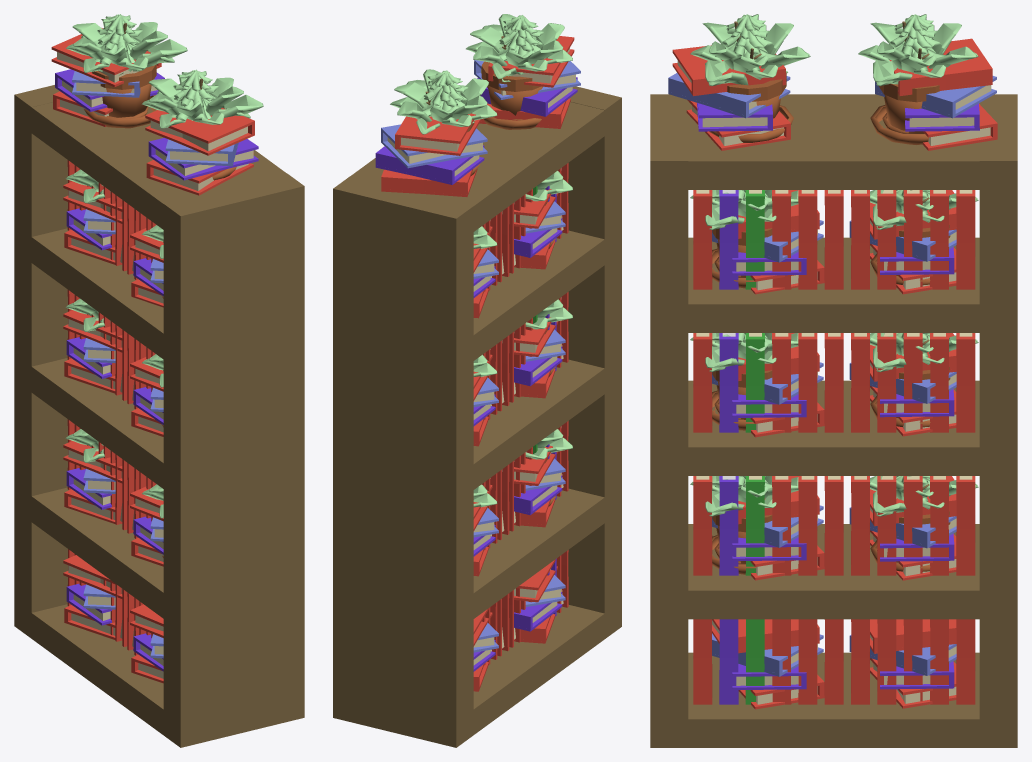
The model's file is library.fbx.
3 renders of one model, left to right at view 1: azimuth 30°, elevation 25°; view 2: azimuth 150°, elevation 25°; view 3: azimuth 270°, elevation 25°, orthographic. The views are drawn at different scales.
Parts seen in each view (by area): view 1: Shelf, BookPileLeftShelf05, Plant03.001, BookPileRightShelf05, BookPileRightShelf1, BookPileRightShelf03, BookPileRightShelf04, BookPileRightShelf02, Plant03, FullBookshelf02, FullBookshelf04, FullBookshelf03 (+12 smaller); view 2: Shelf, BookPileRightShelf05, Plant03, BookPileLeftShelf05, Plant03.001, BookPileLeftShelf01, BookPileLeftShelf03, BookPileLeftShelf02, BookPileLeftShelf04, FullBookshelf02, FullBookshelf03, FullBookshelf04 (+10 smaller); view 3: Shelf, FullBookshelf04, FullBookshelf02, FullBookshelf03, FullBookshelf05, BookPileRightShelf05, BookPileLeftShelf05, Plant03.001, Plant03, BookPileLeftShelf01, BookPileRightShelf1, BookPileRightShelf04 (+15 smaller).
Boxes of the visible parts, x1,y1,x2,y2 form: Shelf: (14,85,304,747); BookPileLeftShelf05: (145,107,258,195); Plant03.001: (66,21,174,128); BookPileRightShelf05: (51,28,164,126); BookPileRightShelf1: (63,555,122,639); BookPileRightShelf03: (63,310,122,393); BookPileRightShelf04: (63,181,122,264); BookPileRightShelf02: (63,441,122,523); Plant03: (142,77,250,180); FullBookshelf02: (67,160,163,279); FullBookshelf04: (67,419,156,538); FullBookshelf03: (67,289,163,409); Shelf: (333,86,621,747); BookPileRightShelf05: (375,113,487,196); Plant03: (466,14,572,129); BookPileLeftShelf05: (474,36,580,128); Plant03.001: (390,69,497,175); BookPileLeftShelf01: (514,558,565,643); BookPileLeftShelf03: (514,317,565,398); BookPileLeftShelf02: (514,445,565,527); BookPileLeftShelf04: (514,189,565,269); FullBookshelf02: (482,163,568,291); FullBookshelf03: (483,292,568,419); FullBookshelf04: (481,421,568,550); Shelf: (650,94,1017,747); FullBookshelf04: (693,476,975,575); FullBookshelf02: (693,190,975,289); FullBookshelf03: (693,333,975,432); FullBookshelf05: (693,619,975,704); BookPileRightShelf05: (875,38,997,150); BookPileLeftShelf05: (668,45,790,150); Plant03.001: (858,15,978,144); Plant03: (690,15,810,142); BookPileLeftShelf01: (712,619,824,709); BookPileRightShelf1: (849,619,956,708); BookPileRightShelf04: (849,190,956,294).
Bounding box in the file's own units: 300 × 1463 × 698.
